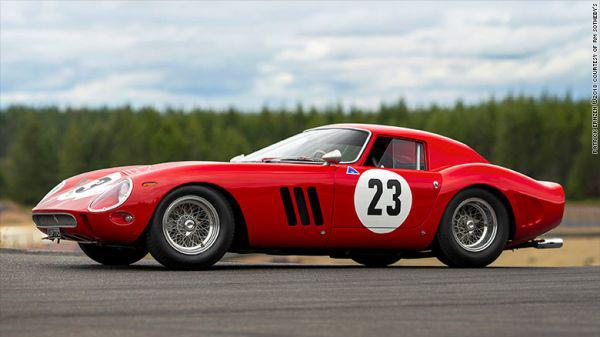car: (24, 100, 593, 272)
